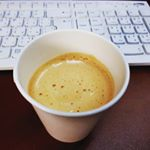cups: (11, 27, 131, 144)
